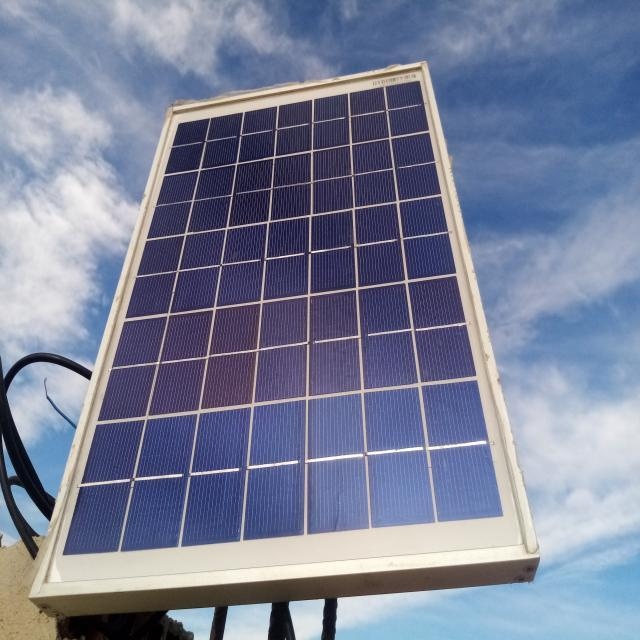no faulty: (37, 62, 534, 593)
